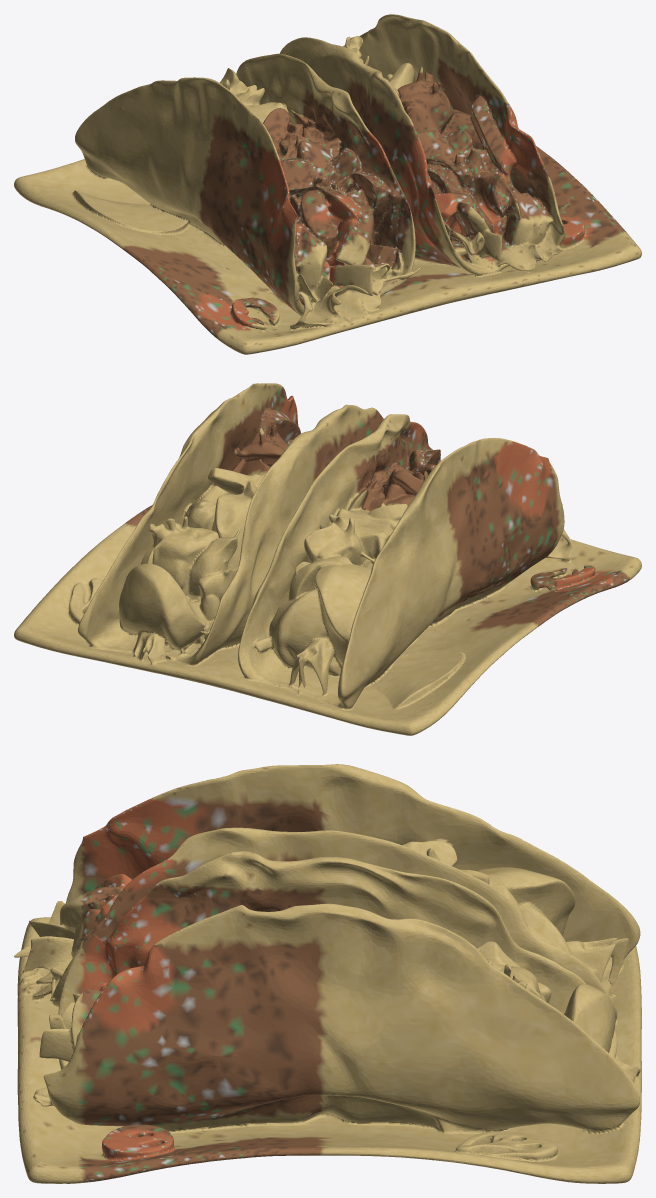
Rendered from Meshy_AI_Vibrant_Street_Tacos_COLOREADO.glb.
3 renders of one model, top to bottom at view 1: azimuth 30°, elevation 25°; view 2: azimuth 150°, elevation 25°; view 3: azimuth 270°, elevation 25°, orthographic. The views are drawn at different scales.
Visible parts, largest first — view 1: mesh_node; view 2: mesh_node; view 3: mesh_node.
Boxes of the visible parts, bbox=[...] form: mesh_node: bbox=[14, 14, 641, 354]; mesh_node: bbox=[14, 383, 641, 735]; mesh_node: bbox=[14, 764, 641, 1183].
Bounding box in the file's own units: 1.9 × 0.8489 × 1.91.
